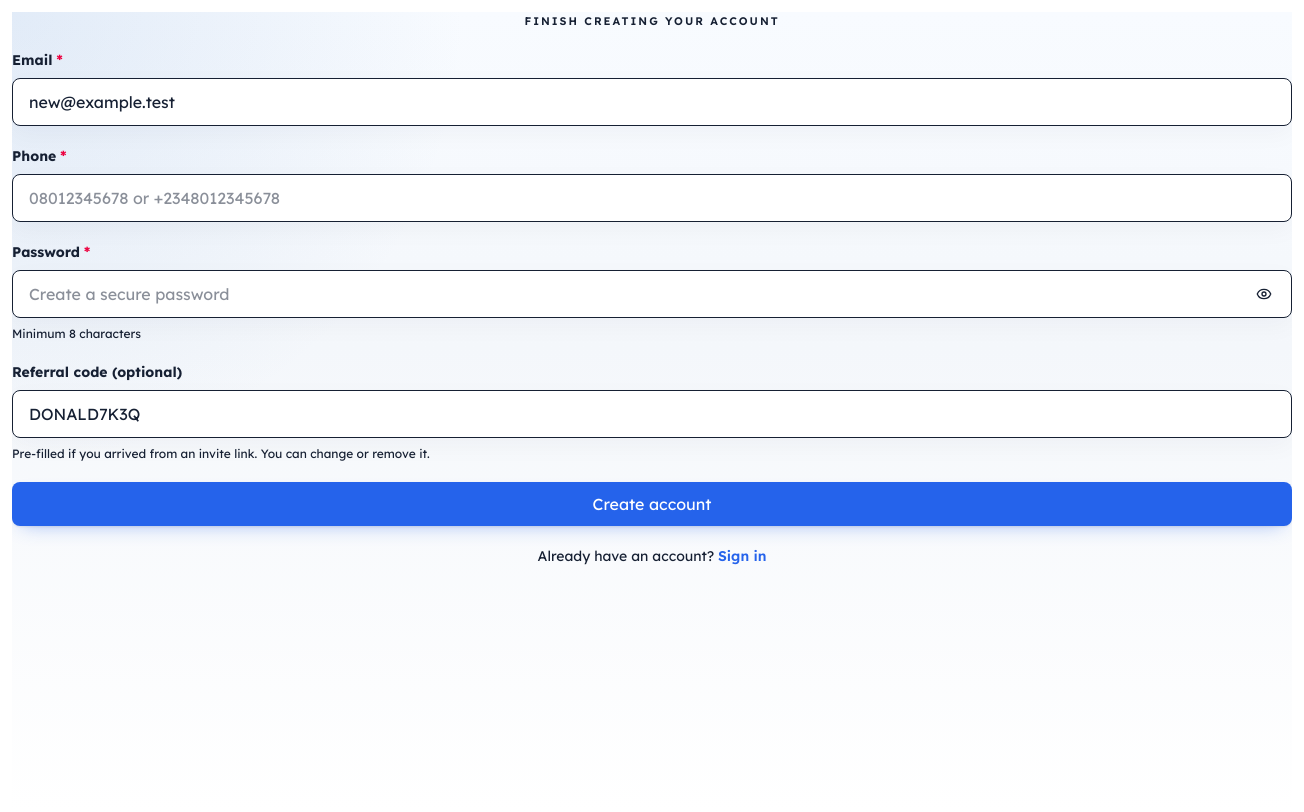
Test case: registration referral integration › treats a refused referral as information, not a failed signup
The image size is (1304, 812).
Type "08030001234" into the field labelled "Phone*" at (652,198), box left=12, top=174, right=1292, bottom=222
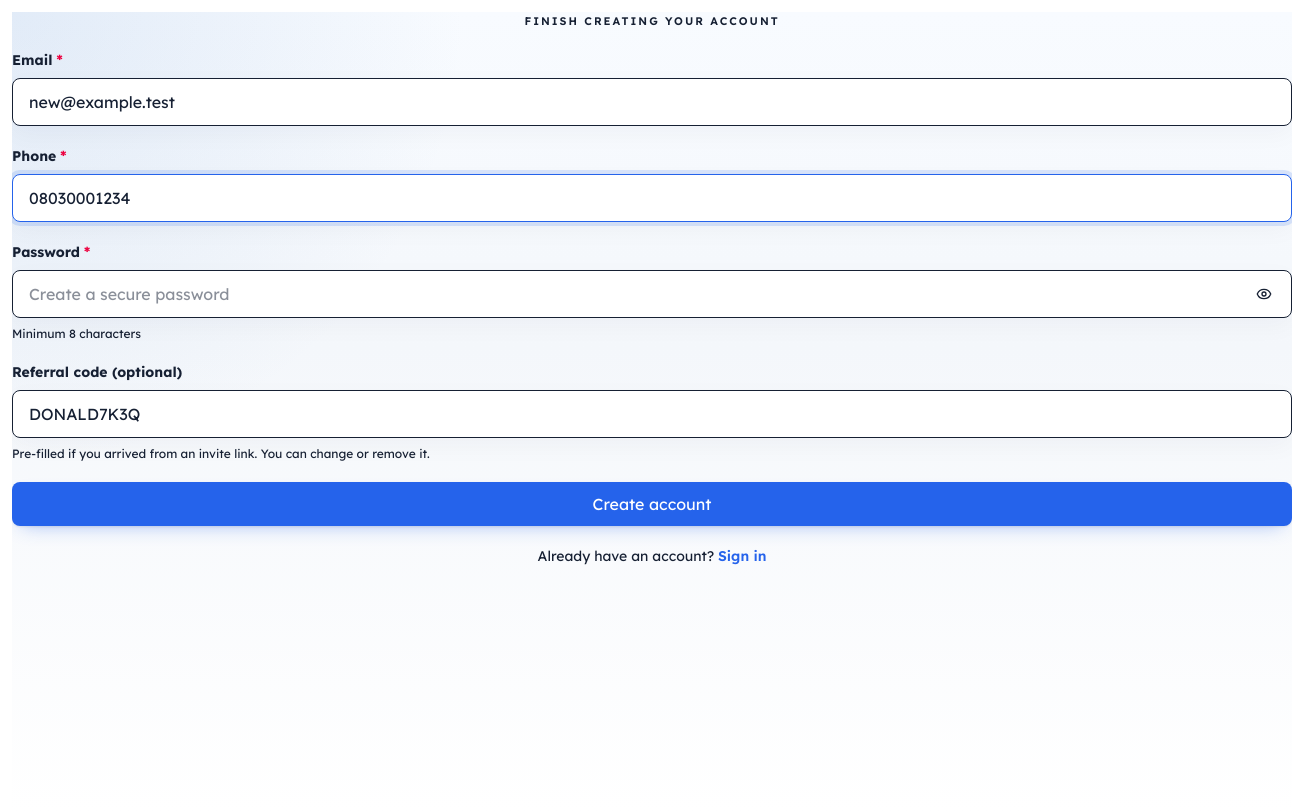
Type "Str0ngPassw0rd!" into the password field labelled "Password* Minimum 8 characters" at (652,294), box left=12, top=270, right=1292, bottom=318
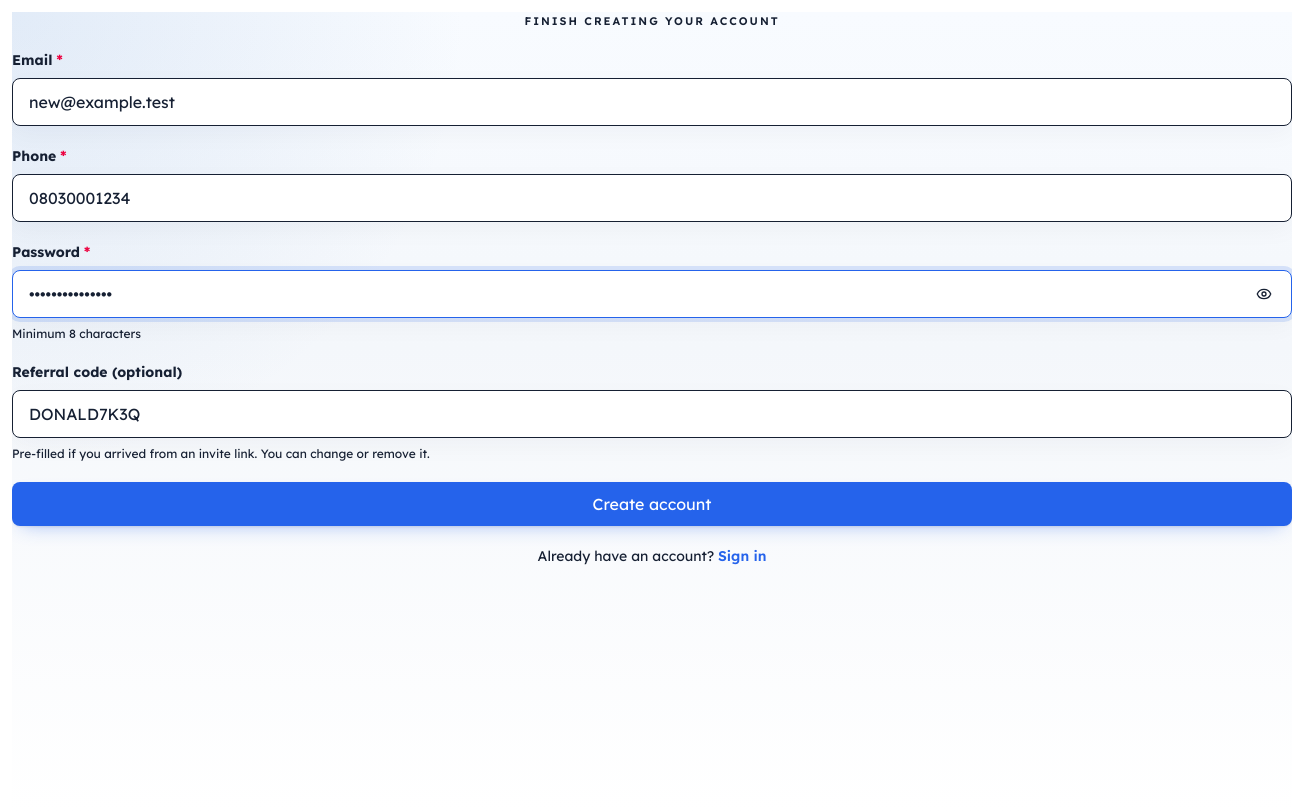
Click the button "Create account" at (652,504), box left=12, top=482, right=1292, bottom=526
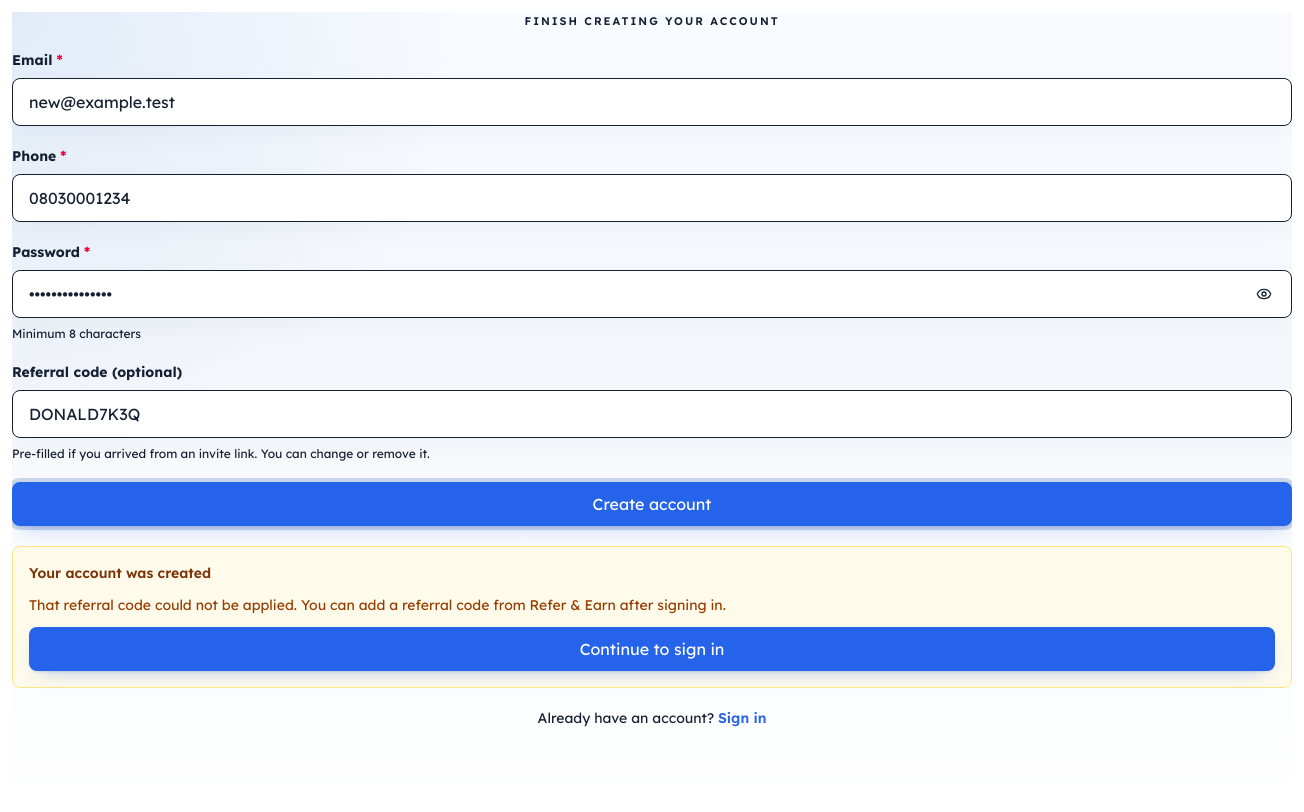
Expected: the text "Your account was created" is shown, left=29, top=564, right=211, bottom=582
Expected: the text "could not be applied" is shown, left=29, top=596, right=297, bottom=614
Expected: the button "Continue to sign in" is shown, left=29, top=627, right=1275, bottom=671
